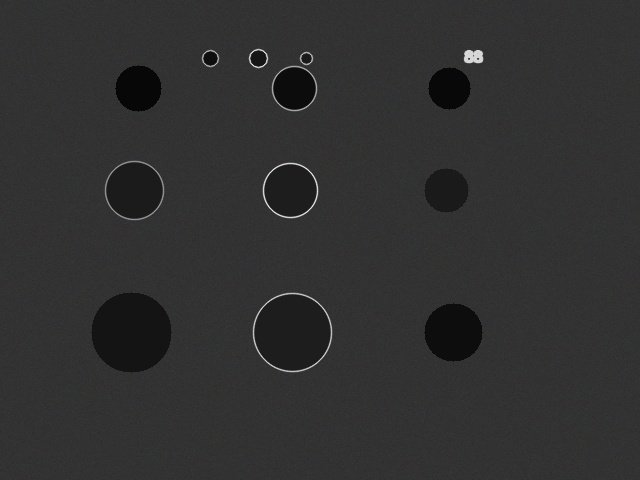hole: (91, 292, 171, 372), (253, 293, 331, 371), (105, 161, 163, 219), (424, 303, 482, 361), (263, 163, 317, 217), (115, 65, 161, 111), (272, 66, 316, 110), (424, 168, 468, 212), (428, 67, 470, 109), (249, 49, 267, 67), (202, 50, 218, 66), (300, 52, 312, 64)
